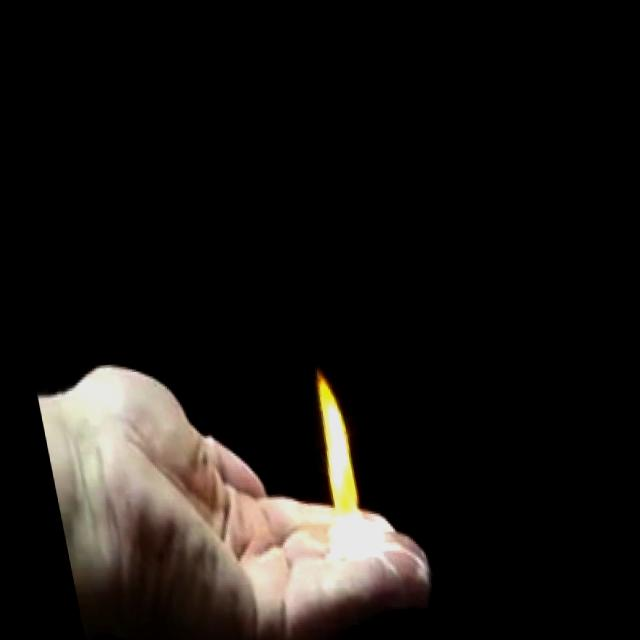Fire: (289, 353, 369, 546)
